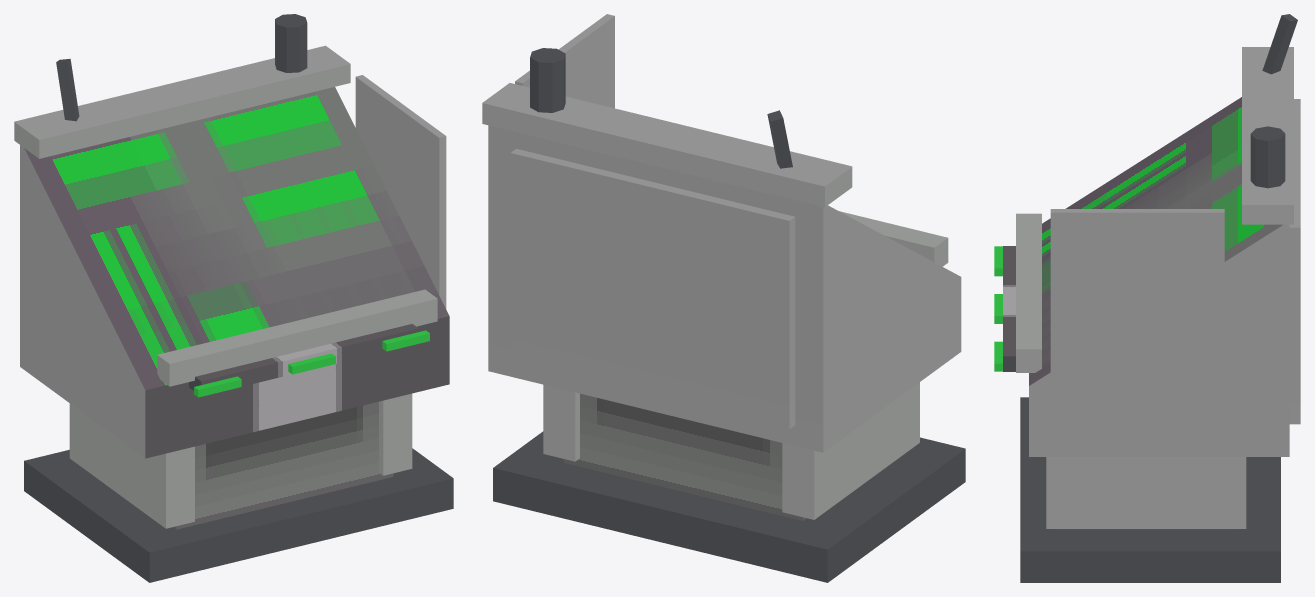
File: Building_AncientTerminal.glb
3 renders of one model, left to right at view 1: azimuth 30°, elevation 25°; view 2: azimuth 150°, elevation 25°; view 3: azimuth 270°, elevation 25°, orthographic. The views are drawn at different scales.
Visible parts, largest first — view 1: AncientTerminal; view 2: AncientTerminal; view 3: AncientTerminal.
Part boxes in pixels (bbox=[...]): AncientTerminal: bbox=[14, 14, 453, 582]; AncientTerminal: bbox=[482, 14, 965, 582]; AncientTerminal: bbox=[994, 14, 1300, 582].
Bounding box in the file's own units: 0.87 × 1.11 × 0.705.
1 material, 1 textured.
